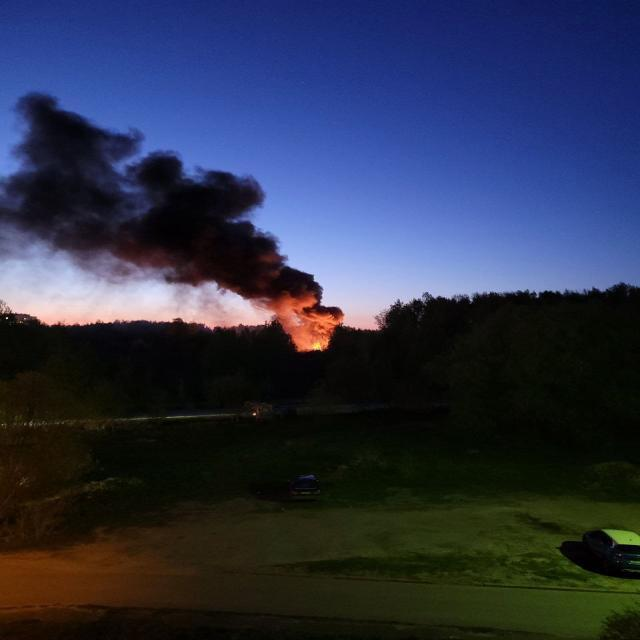Smoke: (0, 92, 346, 349)
